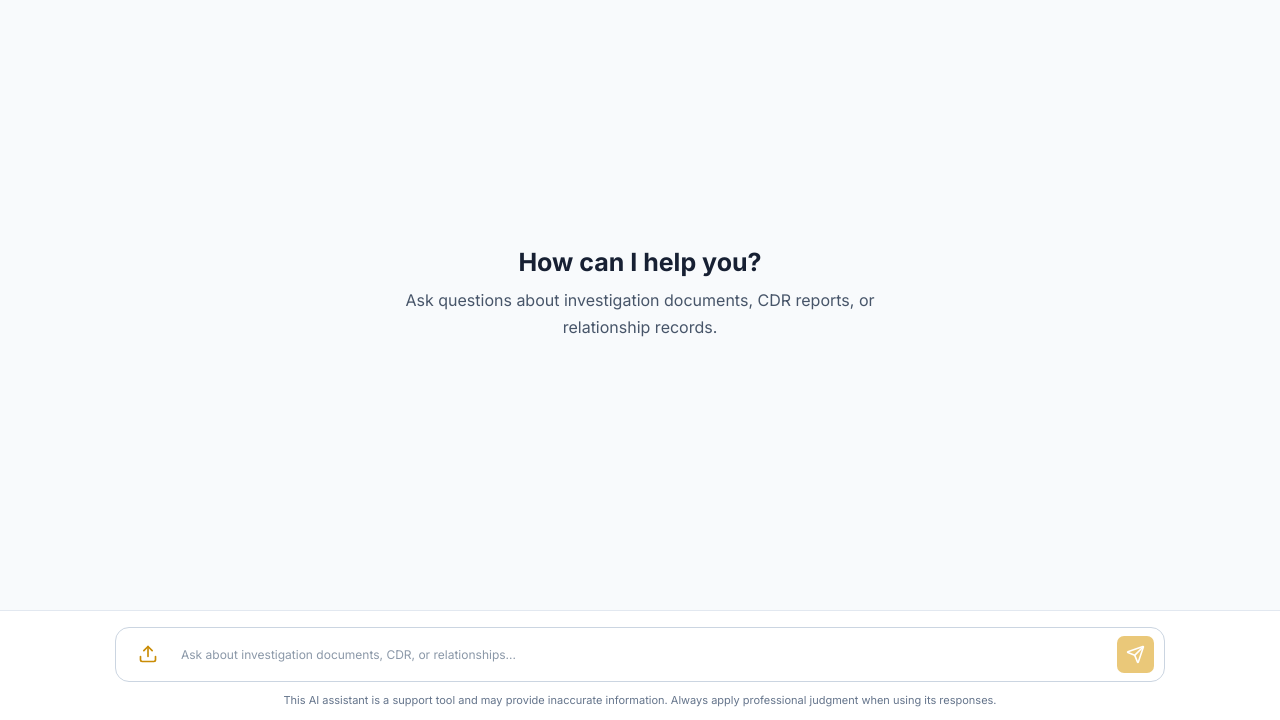
chat submissions › opens the source list for an assistant answer
In the field named "Ask the ACC assistant": (640, 654) [174,636,1107,672], type "Summarize the statement"
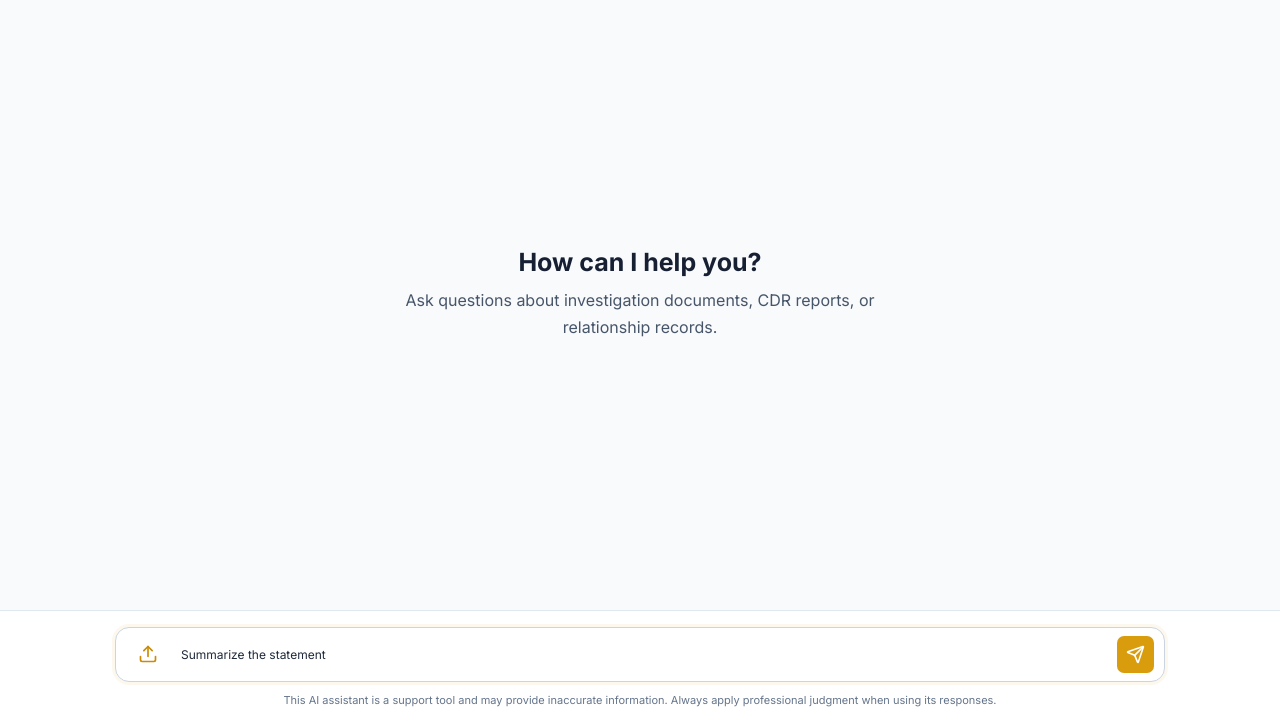
Click the button named "Send message": (1136, 654) [1117,636,1154,672]
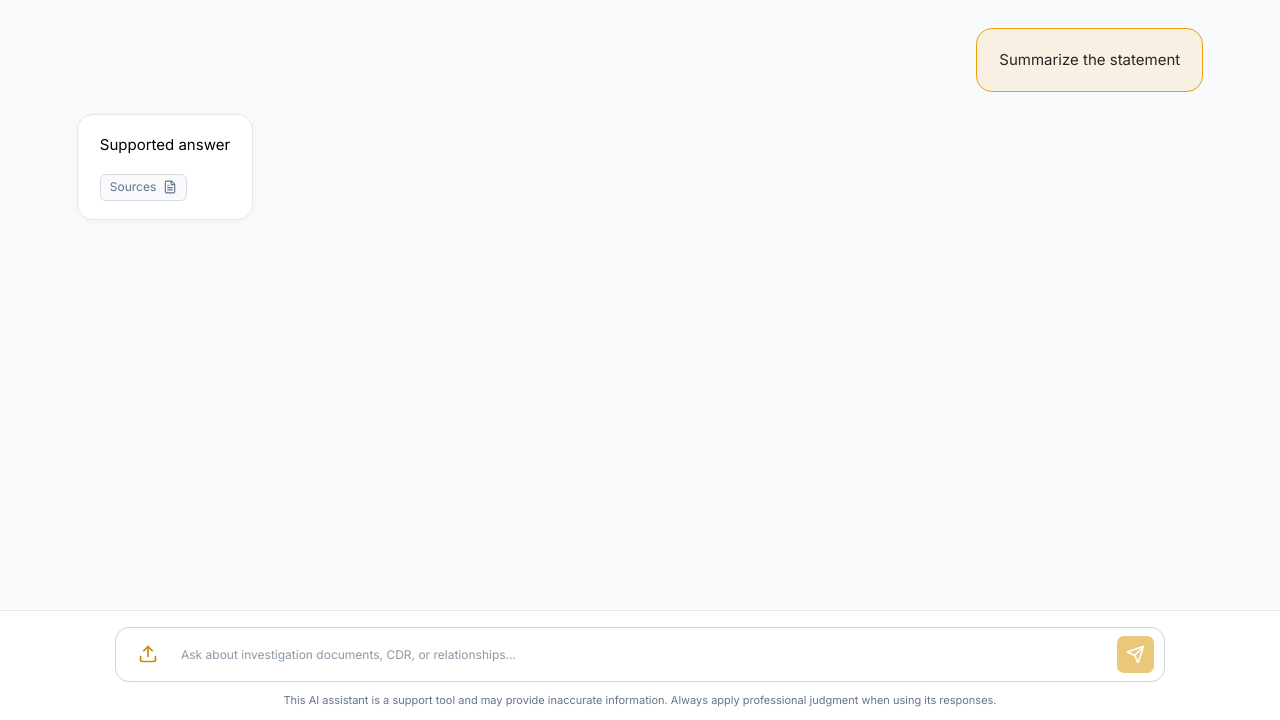
Click the button with aria-label "View 1 sources": (144, 187) [100,174,187,201]
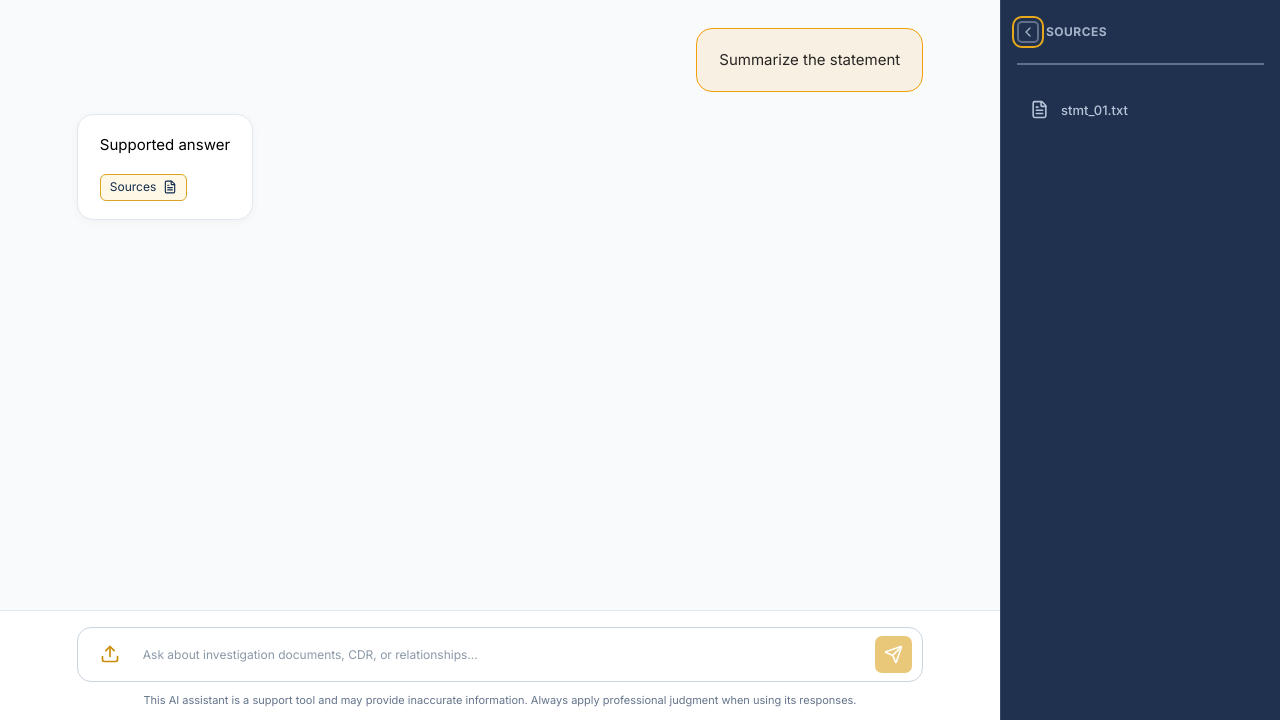
Check: the element "SOURCES" is shown, box [1000,0,1279,719]
Check: the button "stmt_01.txt" is shown, box [1017,85,1264,134]
